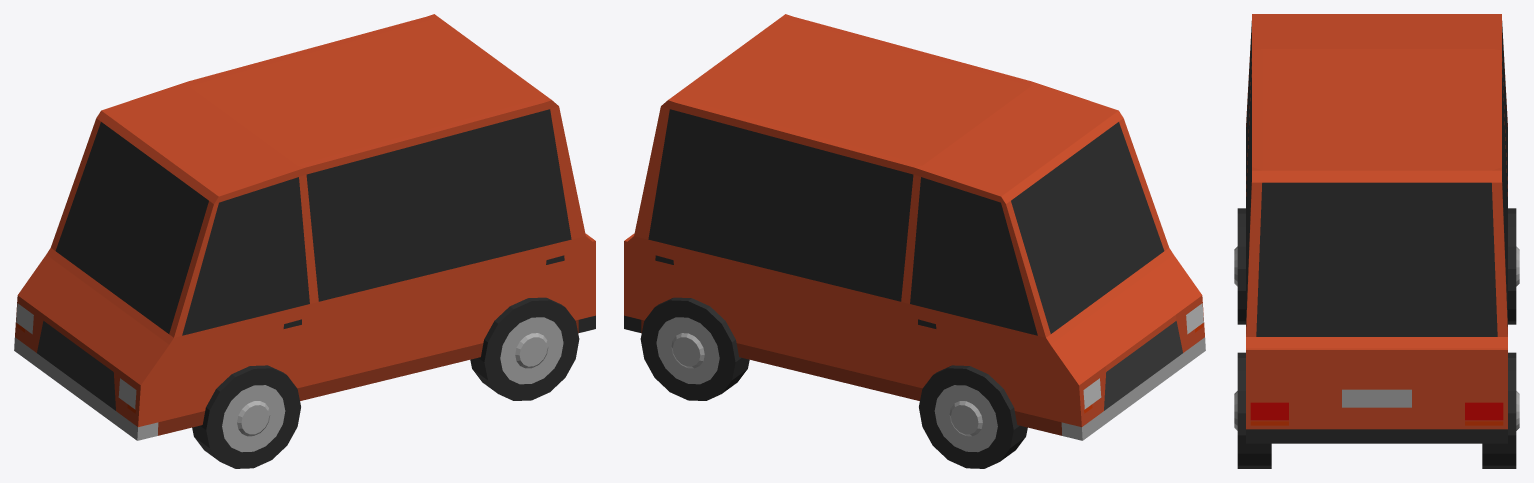
The model's file is Car2a.fbx.
The picture shows the model from 3 angles, left to right: view 1: azimuth 30°, elevation 25°; view 2: azimuth 150°, elevation 25°; view 3: azimuth 270°, elevation 25°; orthographic projection. The views are drawn at different scales.
Parts seen in each view (by area): view 1: Car2a, Car2a_FL, Car2a_RL; view 2: Car2a, Car2a_FR, Car2a_RR; view 3: Car2a, Car2a_RL, Car2a_RR, Car2a_FL, Car2a_FR.
Part boxes in pixels (<box>): Car2a: <box>14,14,595,440</box>; Car2a_FL: <box>192,365,300,468</box>; Car2a_RL: <box>470,297,579,400</box>; Car2a: <box>624,14,1205,440</box>; Car2a_FR: <box>919,365,1027,468</box>; Car2a_RR: <box>640,297,749,400</box>; Car2a: <box>1246,14,1507,443</box>; Car2a_RL: <box>1234,352,1271,468</box>; Car2a_RR: <box>1482,352,1519,468</box>; Car2a_FL: <box>1234,208,1245,324</box>; Car2a_FR: <box>1508,208,1519,324</box>.
Size of the model in its own units: 3.34 by 2.01 by 1.69.
